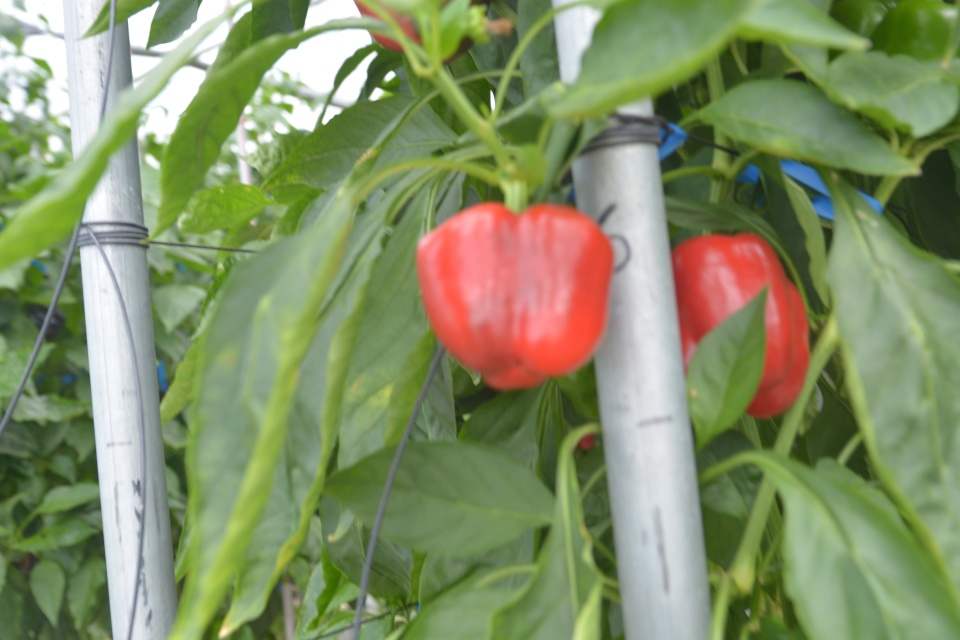fruit: (412, 199, 615, 394), (671, 226, 815, 423), (349, 0, 493, 68)
